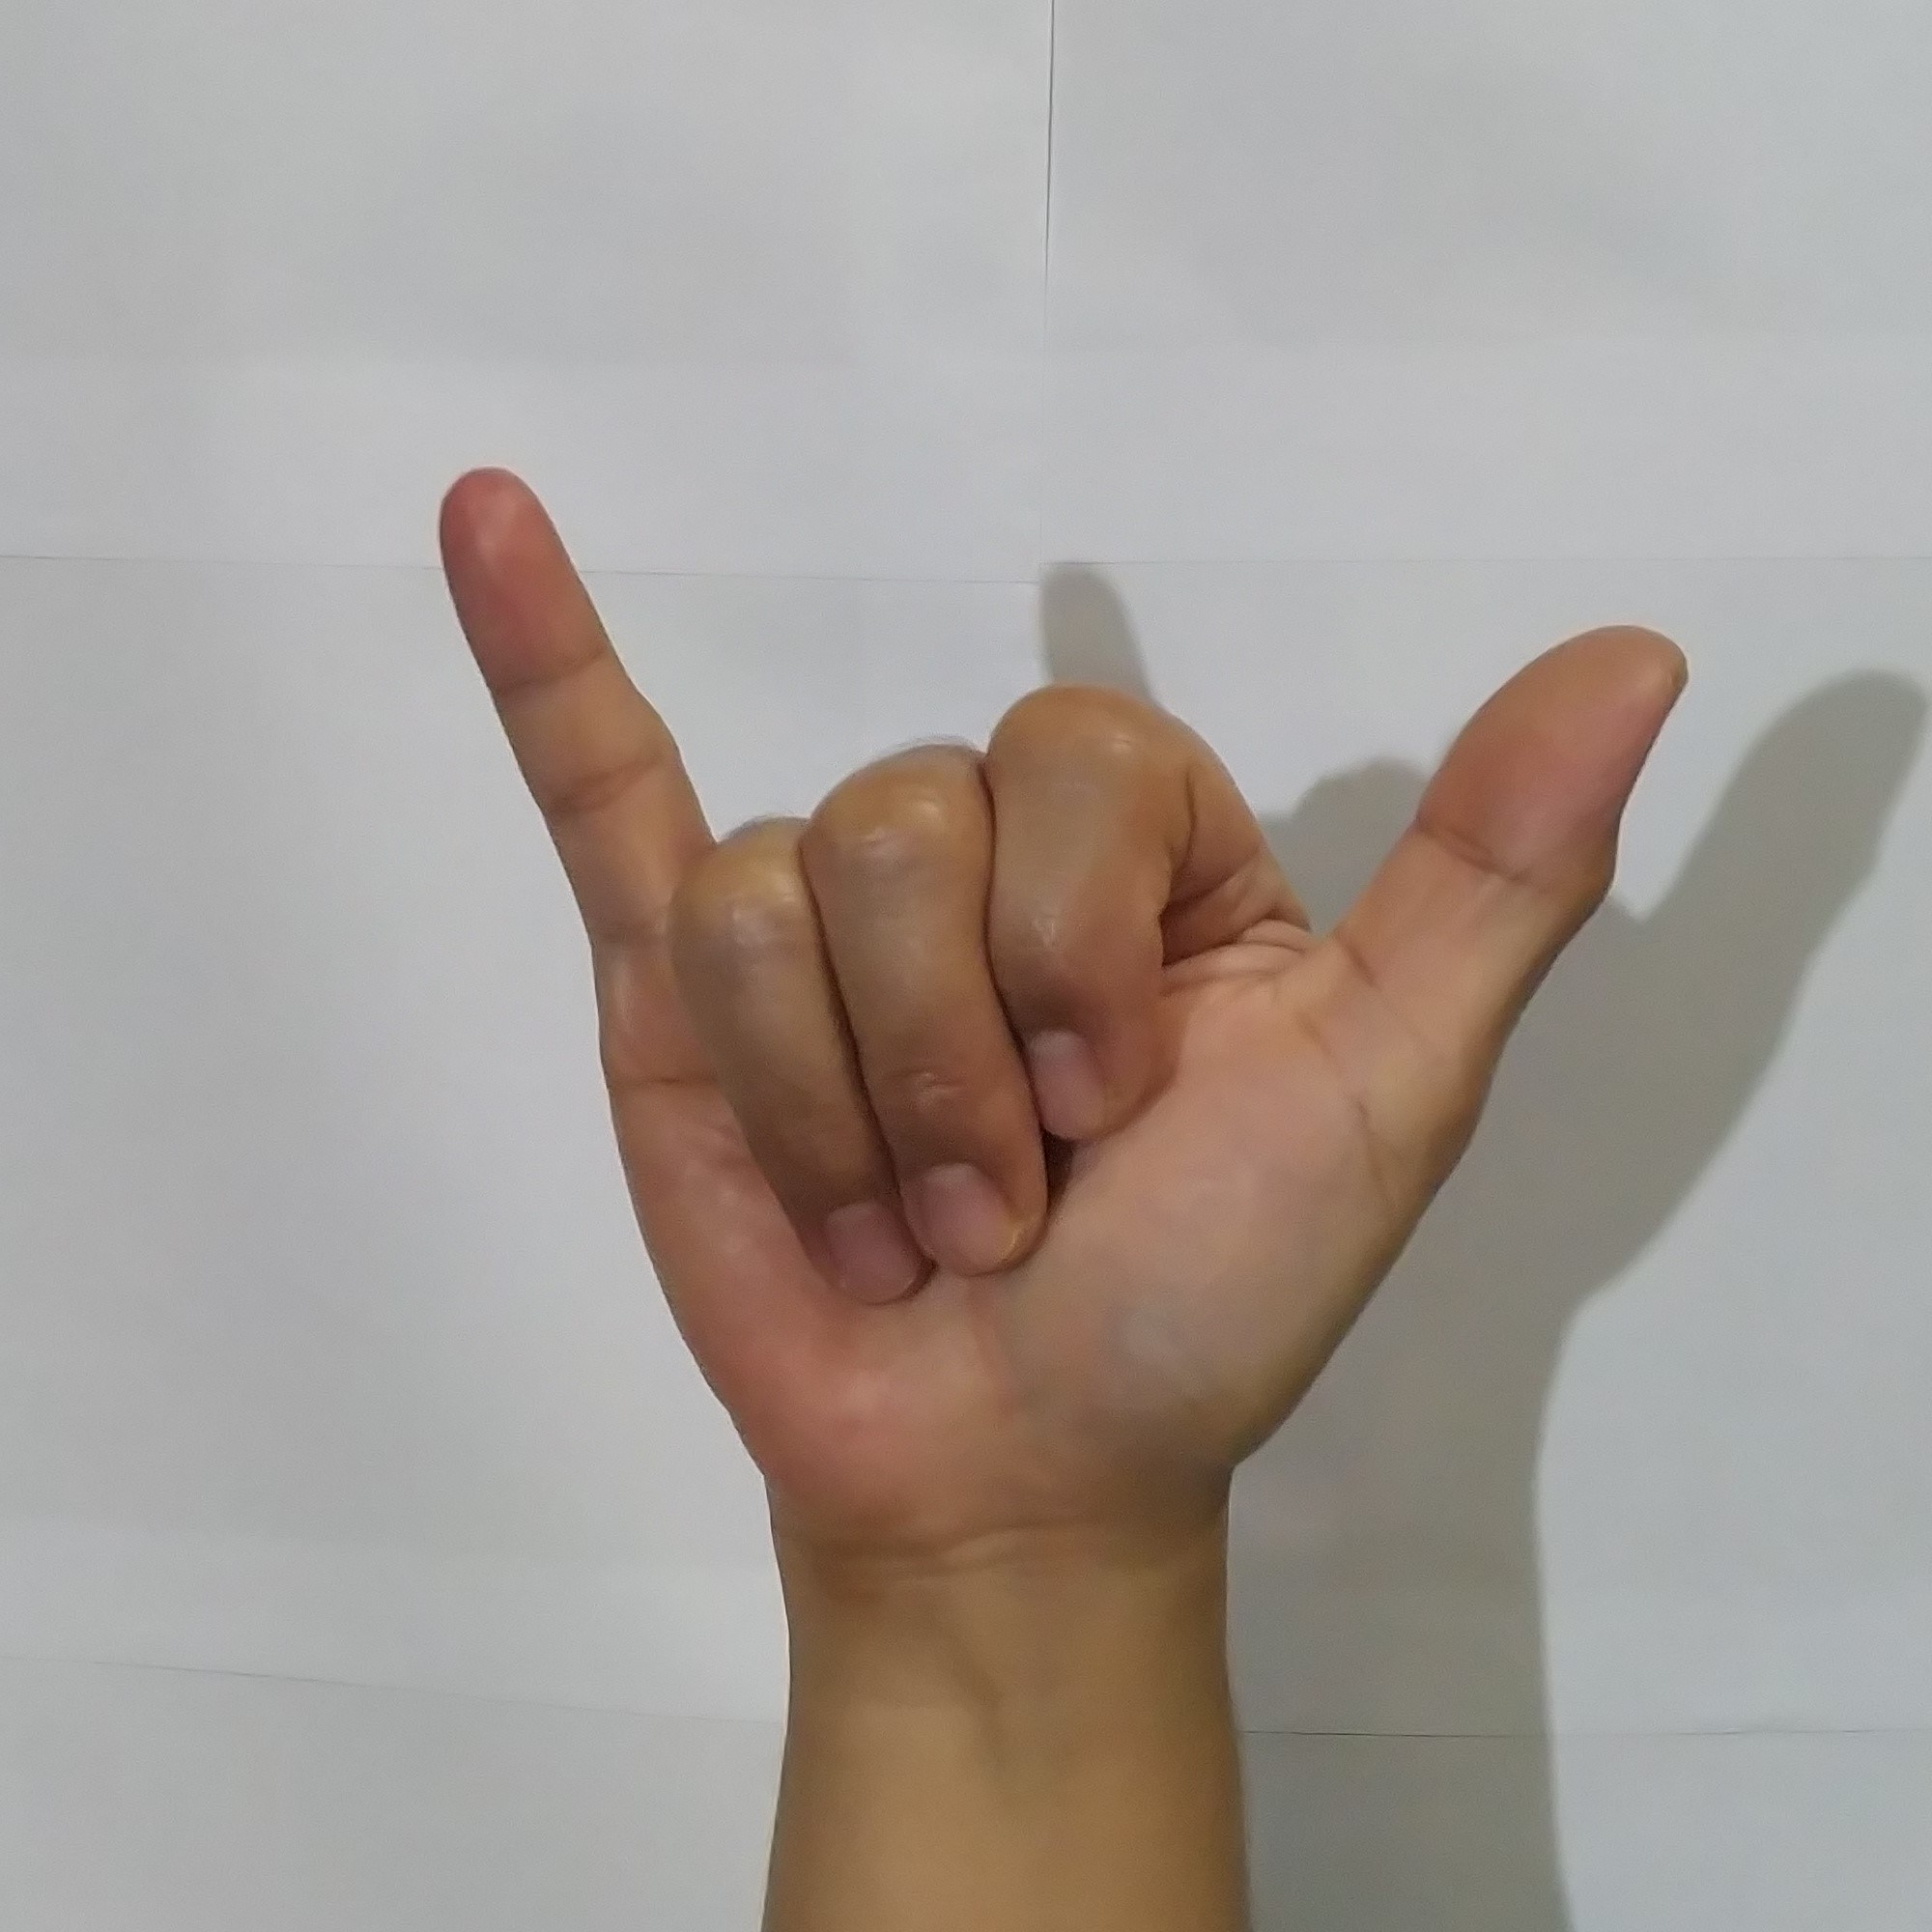Y: (419, 439, 1721, 1529)
